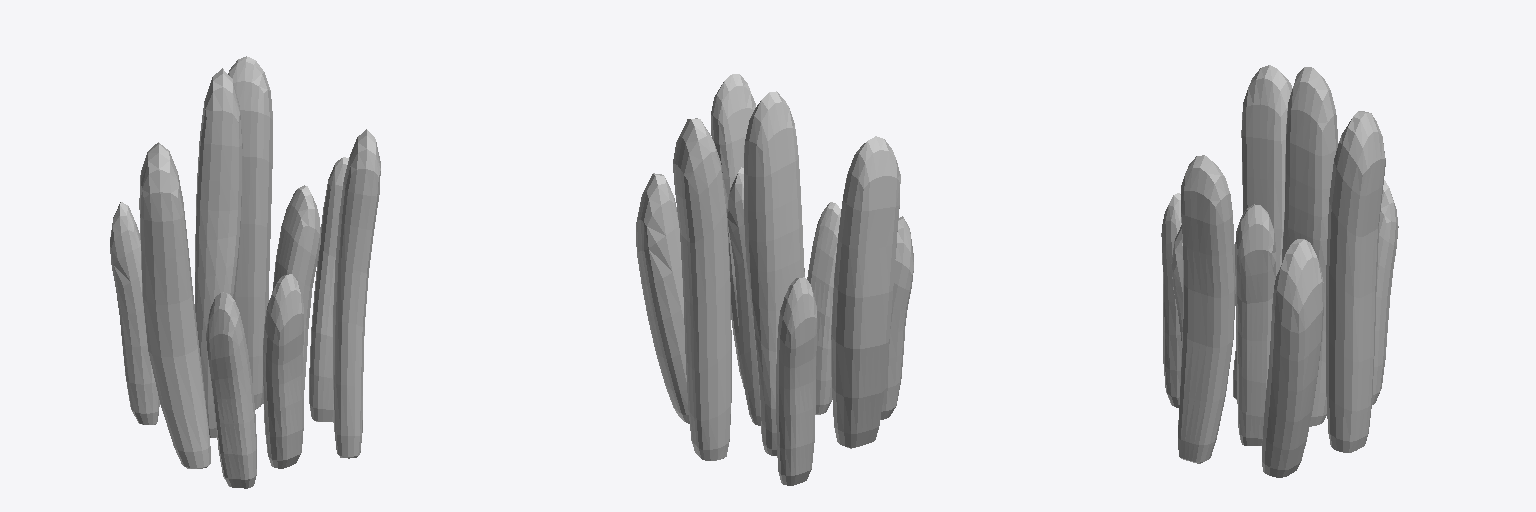
Rendered from plant2.obj.
3 renders of one model, left to right at view 1: azimuth 30°, elevation 25°; view 2: azimuth 150°, elevation 25°; view 3: azimuth 270°, elevation 25°, orthographic.
Parts seen in each view (by area): view 1: coral_14; view 2: coral_14; view 3: coral_14.
Part boxes in pixels (x1,y1,x2,y2): coral_14: (110,56,380,488); coral_14: (636,74,913,485); coral_14: (1161,65,1398,477).
Bounding box in the file's own units: 0.2617 × 0.3681 × 0.2197.